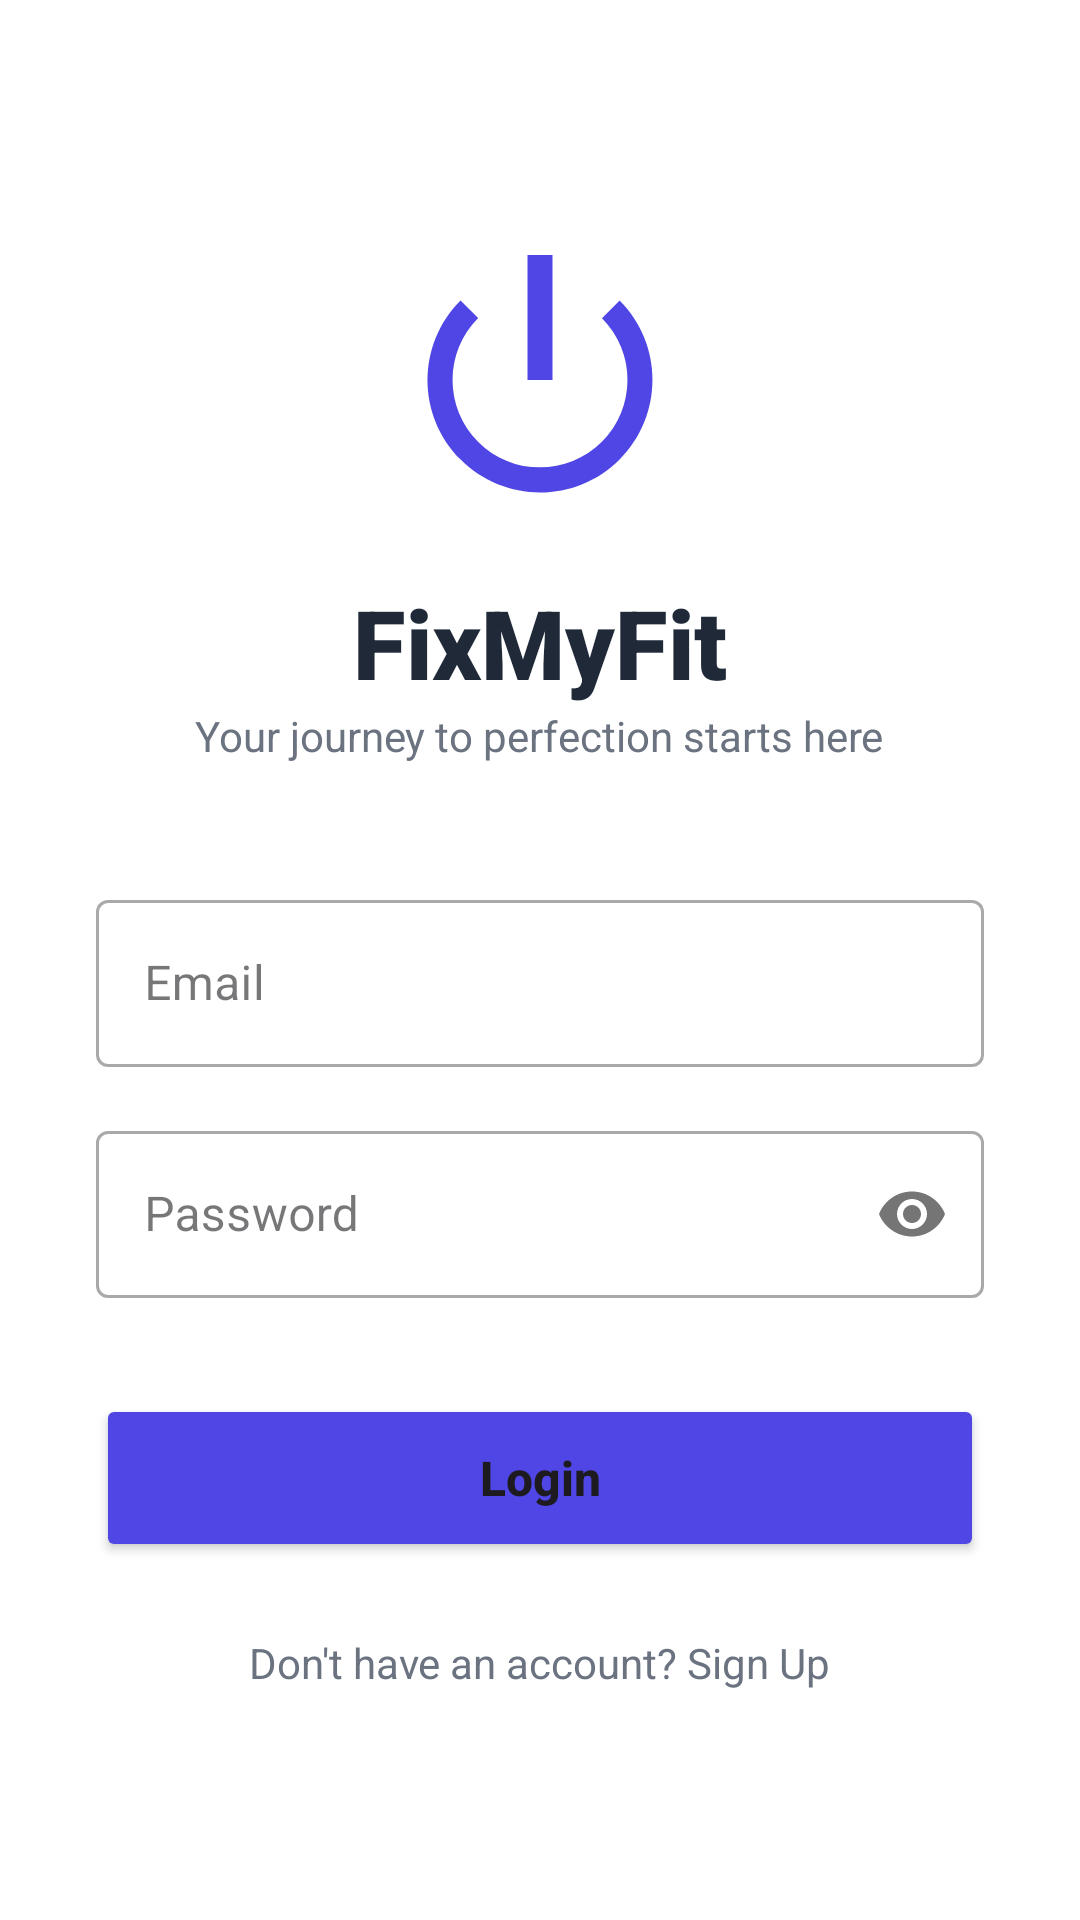

Icon bounding boxes for this 1080 × 1920 phone screenshot, format (x1, y1, x2, y2):
lock power off: (427, 255, 653, 493)
